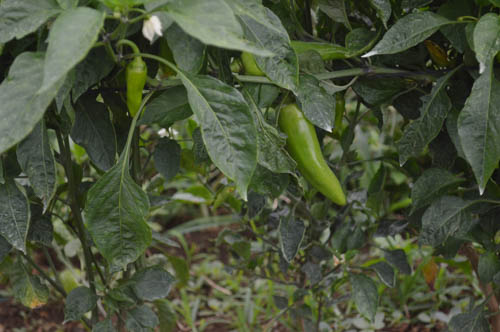ChiliPepper: (284, 105, 348, 206), (245, 41, 369, 83), (125, 63, 145, 121)
